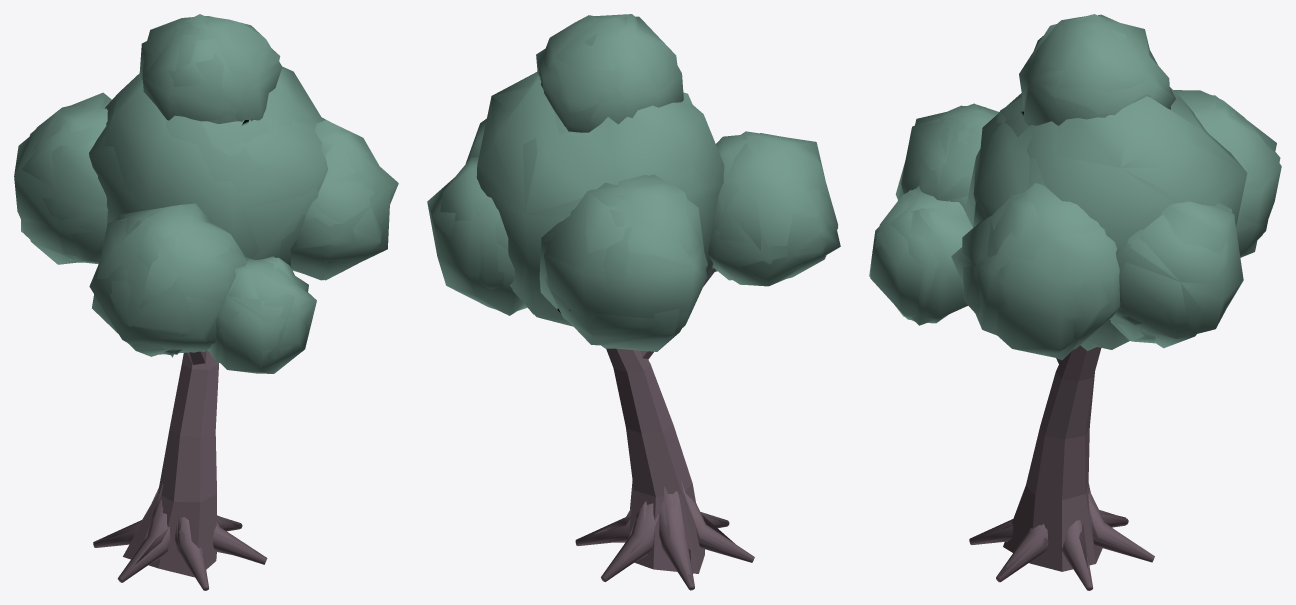
File: fol_tree_stranger_a.glb
3 views of the same model, side by side, from view 1: azimuth 30°, elevation 25°; view 2: azimuth 150°, elevation 25°; view 3: azimuth 270°, elevation 25° (orthographic). The views are drawn at different scales.
Parts seen in each view (by area): view 1: lod0__tree_a_canopy_finish, lod2__tree_a_canopy_finish, lod1__tree_a_canopy_finish; view 2: lod0__tree_a_canopy_finish, lod2__tree_a_canopy_finish, lod1__tree_a_canopy_finish; view 3: lod0__tree_a_canopy_finish, lod2__tree_a_canopy_finish, lod1__tree_a_canopy_finish.
Part boxes in pixels (box(x1,y1,x2,y2)): lod0__tree_a_canopy_finish: box(14, 16, 398, 590); lod2__tree_a_canopy_finish: box(21, 14, 390, 564); lod1__tree_a_canopy_finish: box(14, 16, 397, 589); lod0__tree_a_canopy_finish: box(427, 14, 838, 590); lod2__tree_a_canopy_finish: box(427, 16, 840, 562); lod1__tree_a_canopy_finish: box(442, 14, 838, 590); lod0__tree_a_canopy_finish: box(870, 14, 1281, 590); lod2__tree_a_canopy_finish: box(869, 14, 1276, 567); lod1__tree_a_canopy_finish: box(875, 16, 1280, 589).
Bounding box in the file's own units: 2.8 × 4.48 × 2.99.
Materials: 1 (1 with a texture image).
